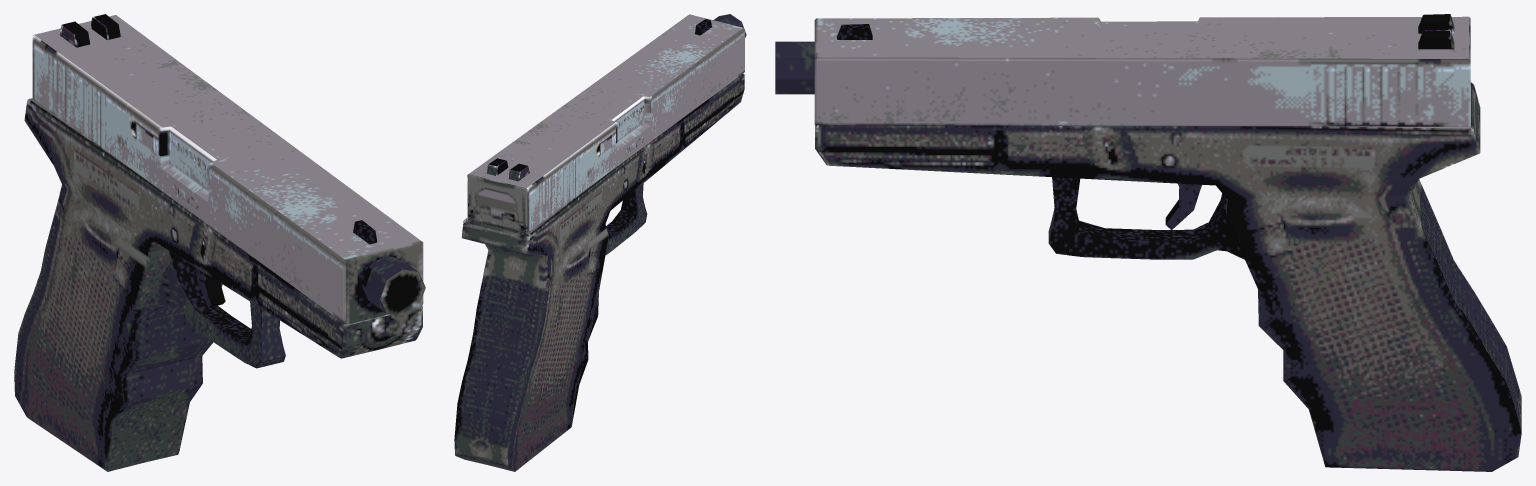
File: psx_style_handgun.glb
3 views of the same model, side by side, from view 1: azimuth 30°, elevation 25°; view 2: azimuth 150°, elevation 25°; view 3: azimuth 270°, elevation 25° (orthographic). The views are drawn at different scales.
Visible parts, largest first — view 1: SM_Glock; view 2: SM_Glock; view 3: SM_Glock.
Part boxes in pixels (left/top/right/bottom): SM_Glock: left=14, top=14, right=425, bottom=471; SM_Glock: left=454, top=14, right=746, bottom=471; SM_Glock: left=775, top=14, right=1521, bottom=471.
Size of the model in its own units: 0.6549 by 2.71 by 4.28.
1 material, 1 textured.
